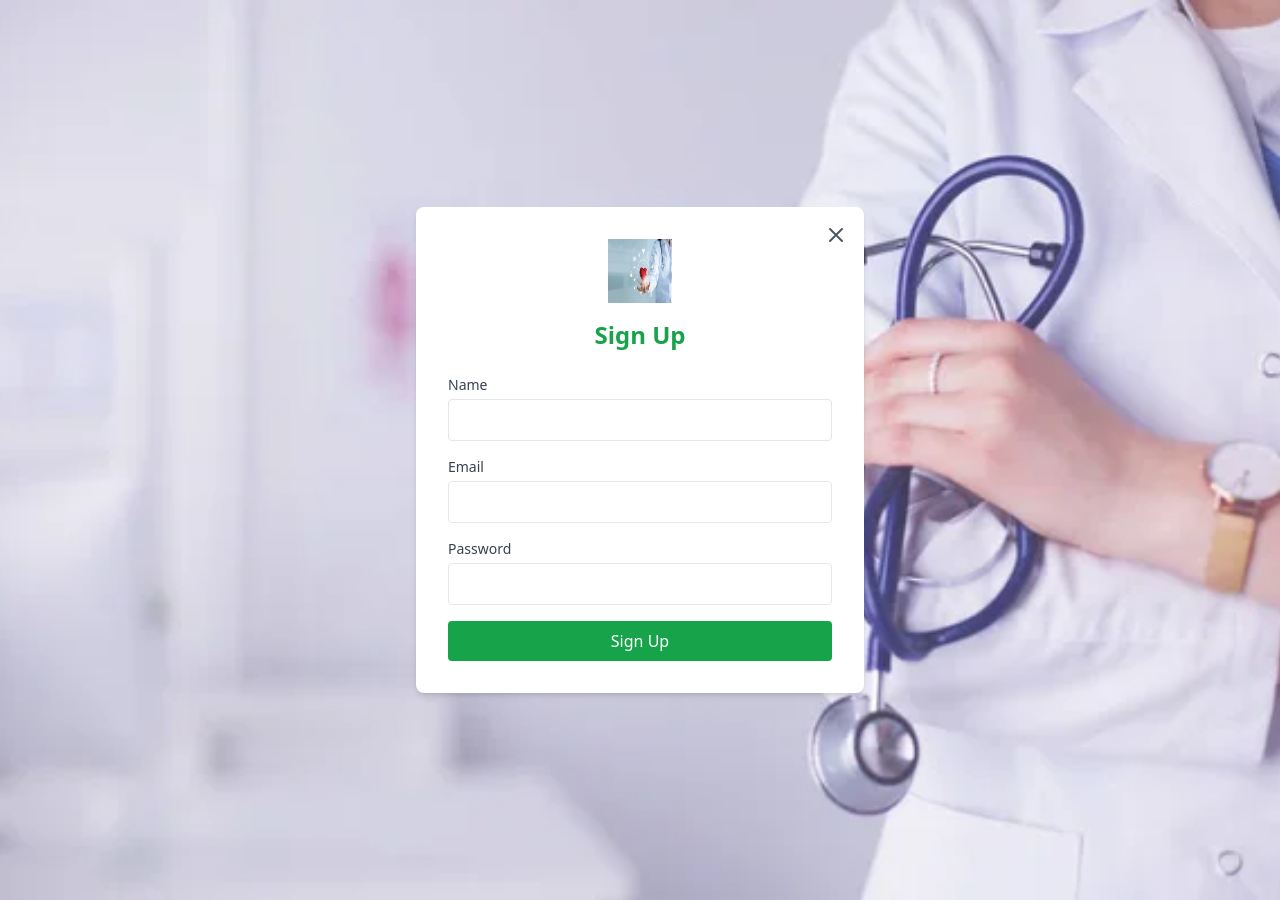
Test: Signup Component › shows error message on failed signup
Fill in form inputs
Type "Jane" into the field labelled "Name" at (640, 420), box x1=448 y1=399 x2=832 y2=441
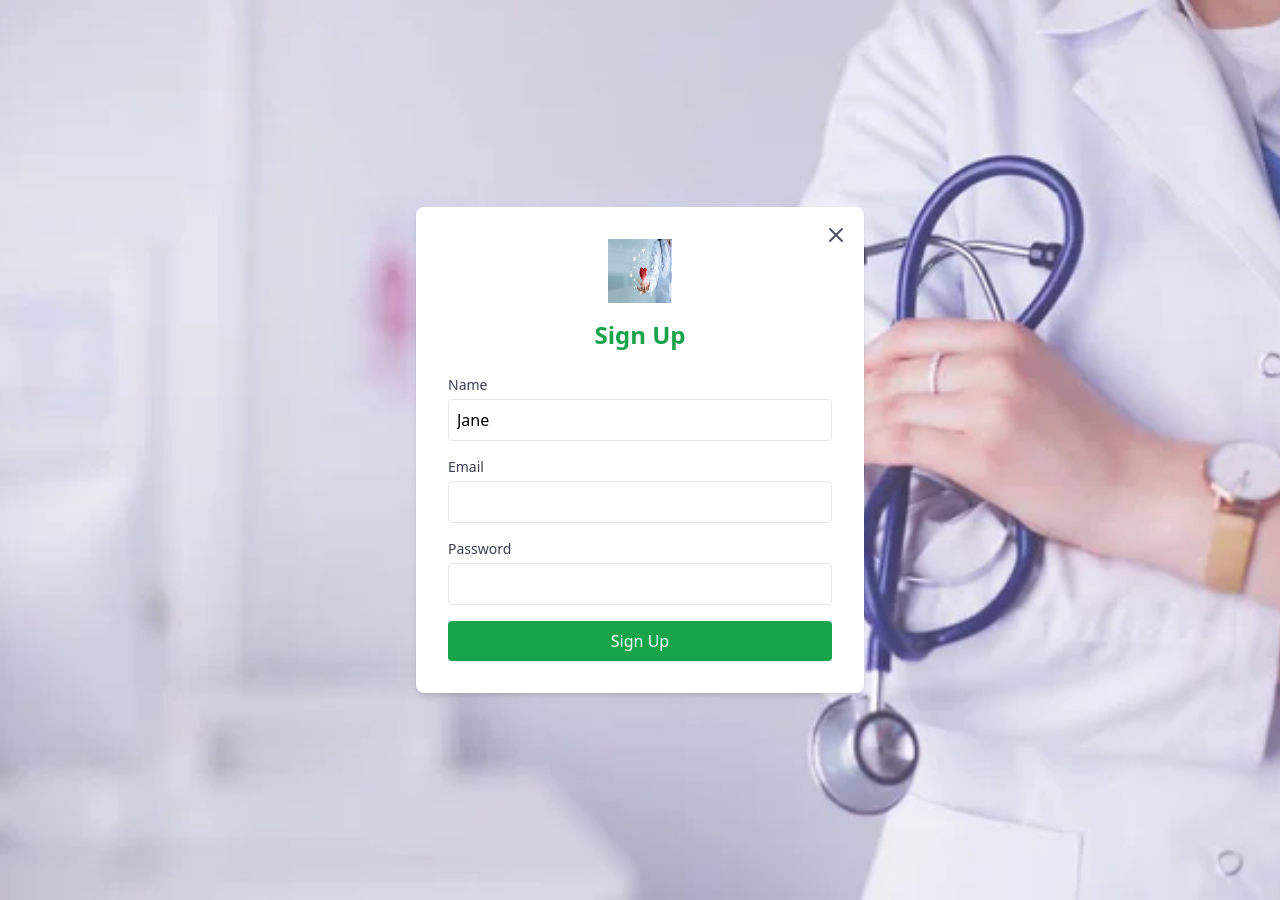
Type "jane@example.com" into the field labelled "Email" at (640, 502), box x1=448 y1=481 x2=832 y2=523
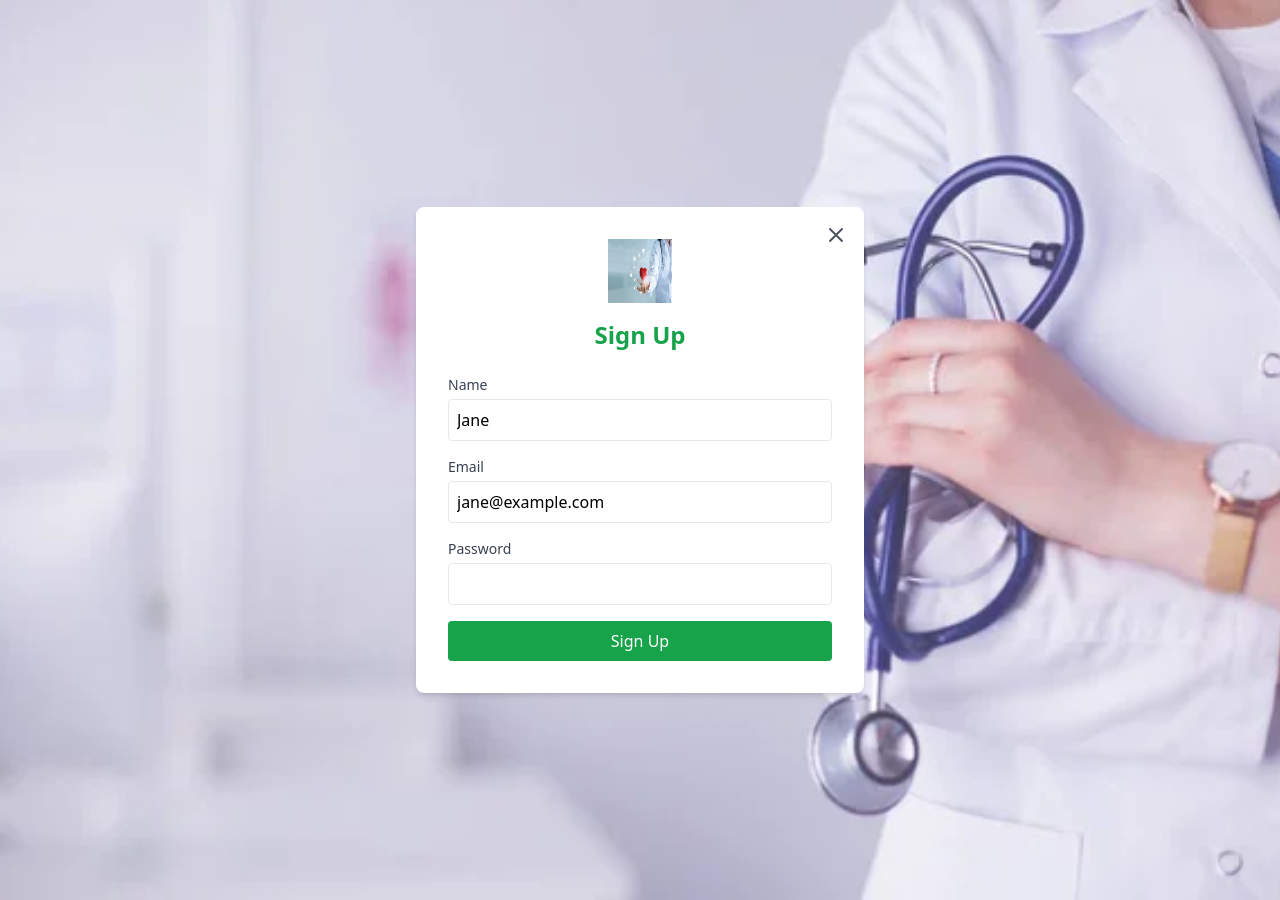
Type "password123" into the password field labelled "Password" at (640, 584), box x1=448 y1=563 x2=832 y2=605
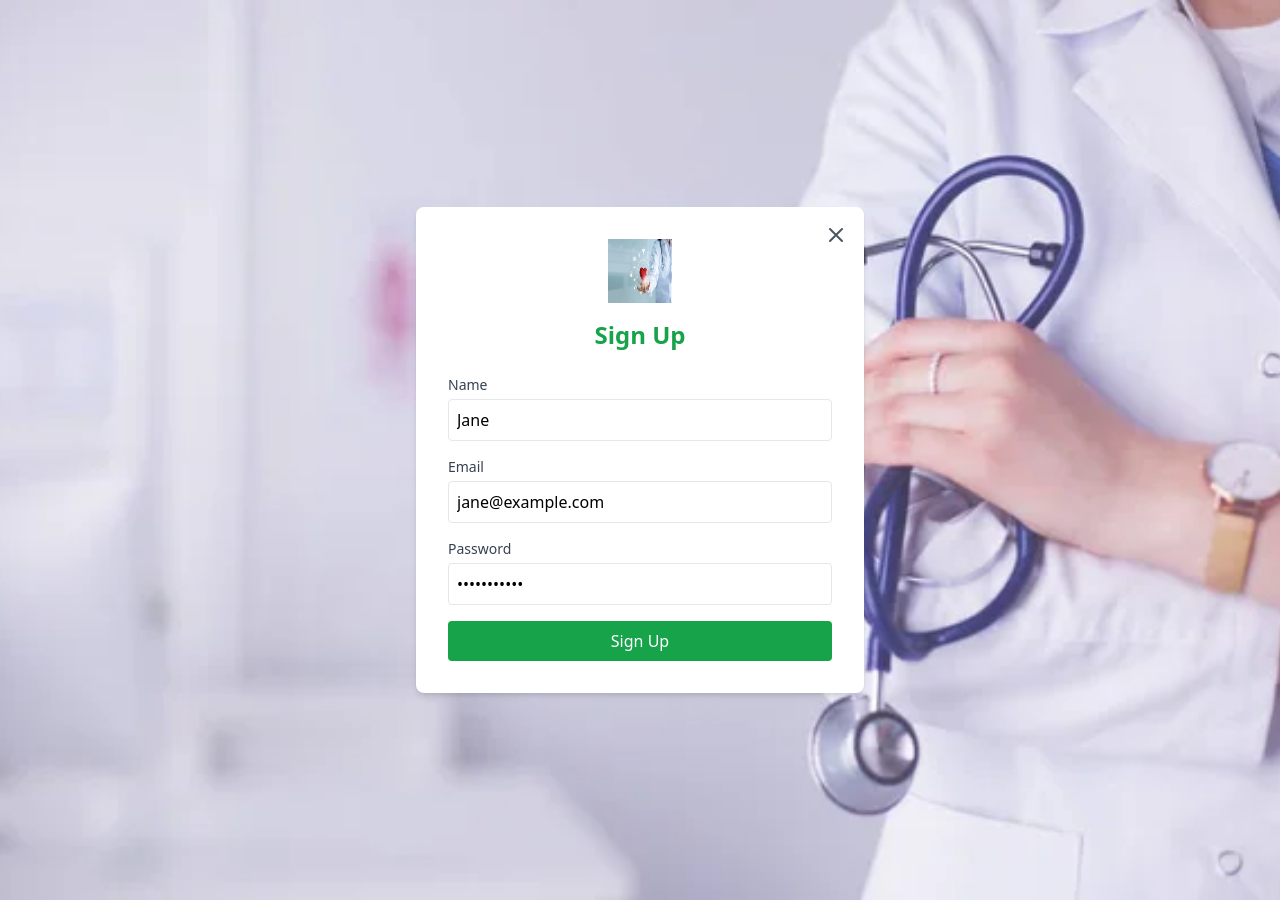
Submit the form
Click the button "Sign Up" at (640, 641), box x1=448 y1=621 x2=832 y2=661
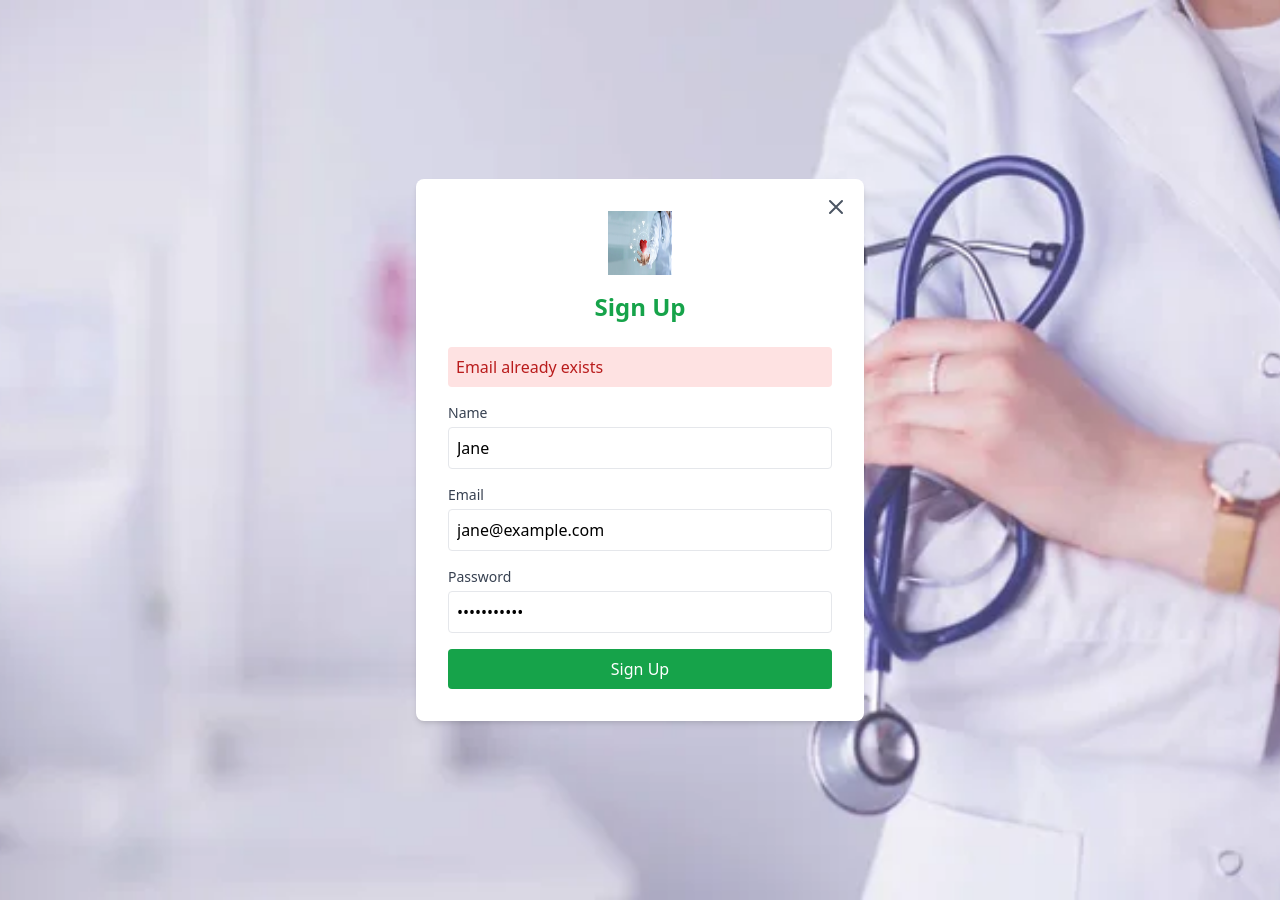
Expected: the text "Email already exists" is shown, x1=448 y1=347 x2=832 y2=387
